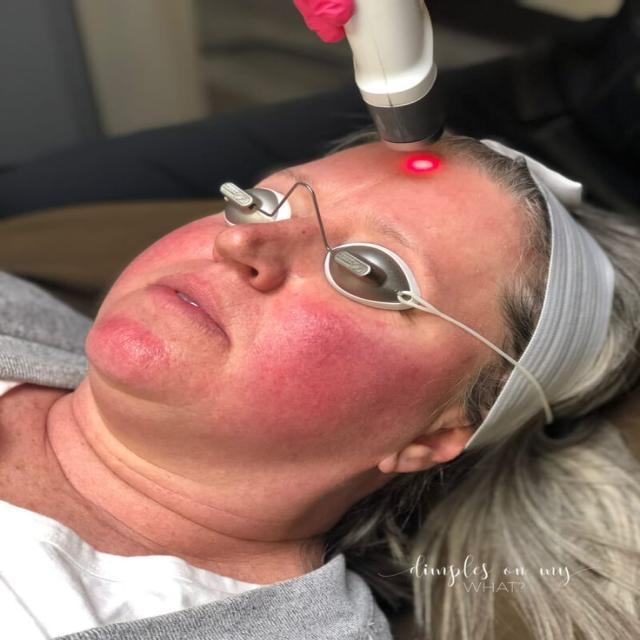Rosacea: (229, 286, 435, 448), (86, 304, 182, 403), (106, 218, 229, 291)
